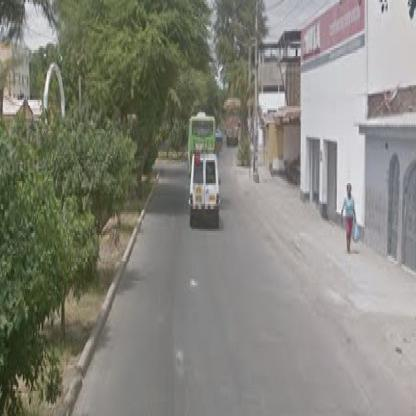Obstaculo: (177, 353, 185, 375), (191, 280, 200, 288)
Peaton: (342, 184, 357, 255)
Vehiculo: (191, 153, 222, 230)
